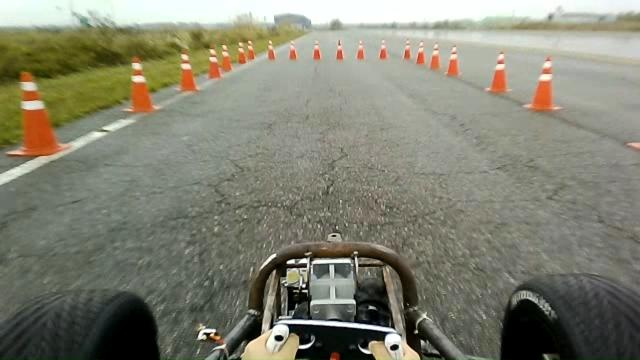red cone: (5, 70, 73, 157), (522, 55, 564, 112), (121, 55, 160, 112), (484, 50, 512, 93), (174, 48, 199, 92), (445, 44, 462, 78), (206, 47, 222, 79), (429, 42, 440, 70), (399, 38, 409, 61), (378, 38, 388, 60), (355, 38, 365, 59), (335, 38, 344, 60), (312, 38, 321, 60), (247, 40, 256, 59)
